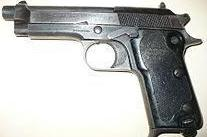gun: (1, 1, 207, 137)
